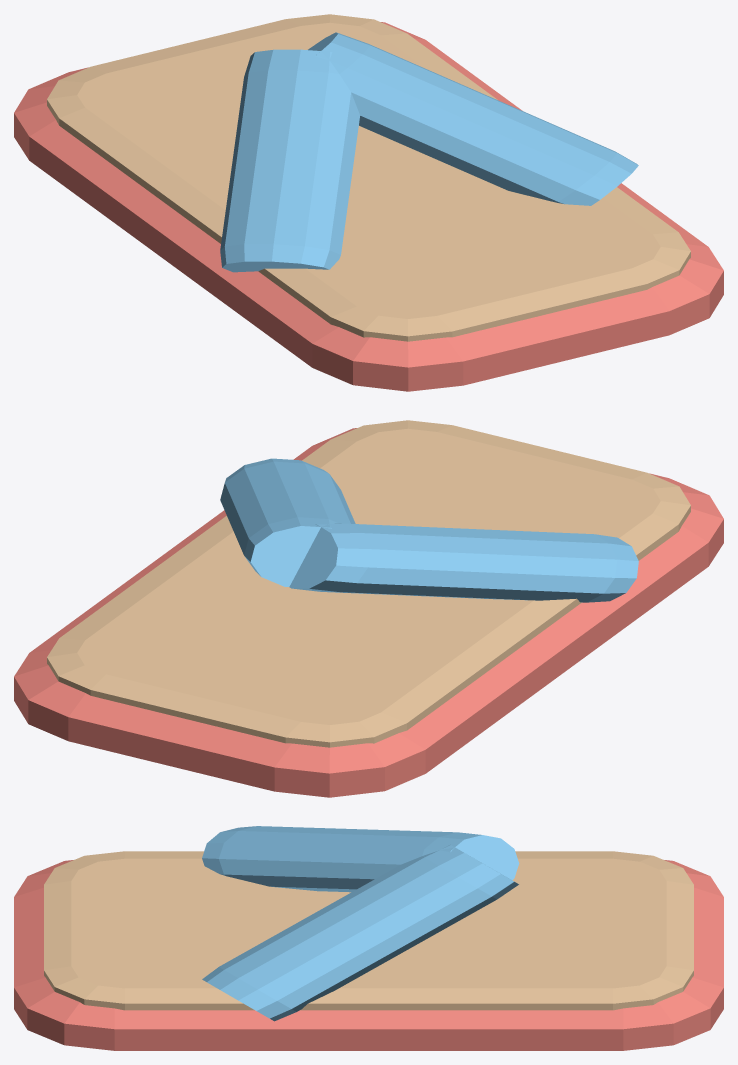
Rendered from lost_slipper.glb.
3 views of the same model, one above another, from view 1: azimuth 30°, elevation 25°; view 2: azimuth 150°, elevation 25°; view 3: azimuth 270°, elevation 25° (orthographic). The views are drawn at different scales.
Parts seen in each view (by area): view 1: model; view 2: model; view 3: model.
Boxes of the visible parts, x1=… form: model: x1=14, y1=14, x2=723, y2=391; model: x1=14, y1=420, x2=723, y2=797; model: x1=14, y1=826, x2=723, y2=1050.
Bounding box in the file's own units: 0.3 × 0.1 × 0.5.
